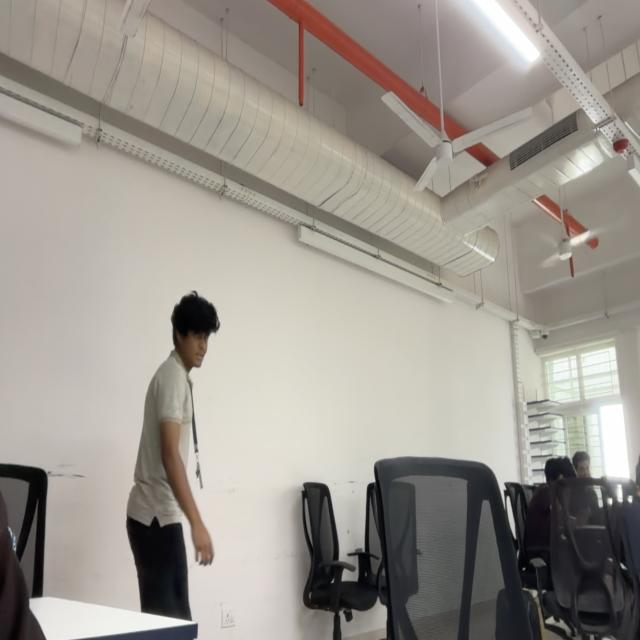kshitij: (173, 291, 218, 368)
